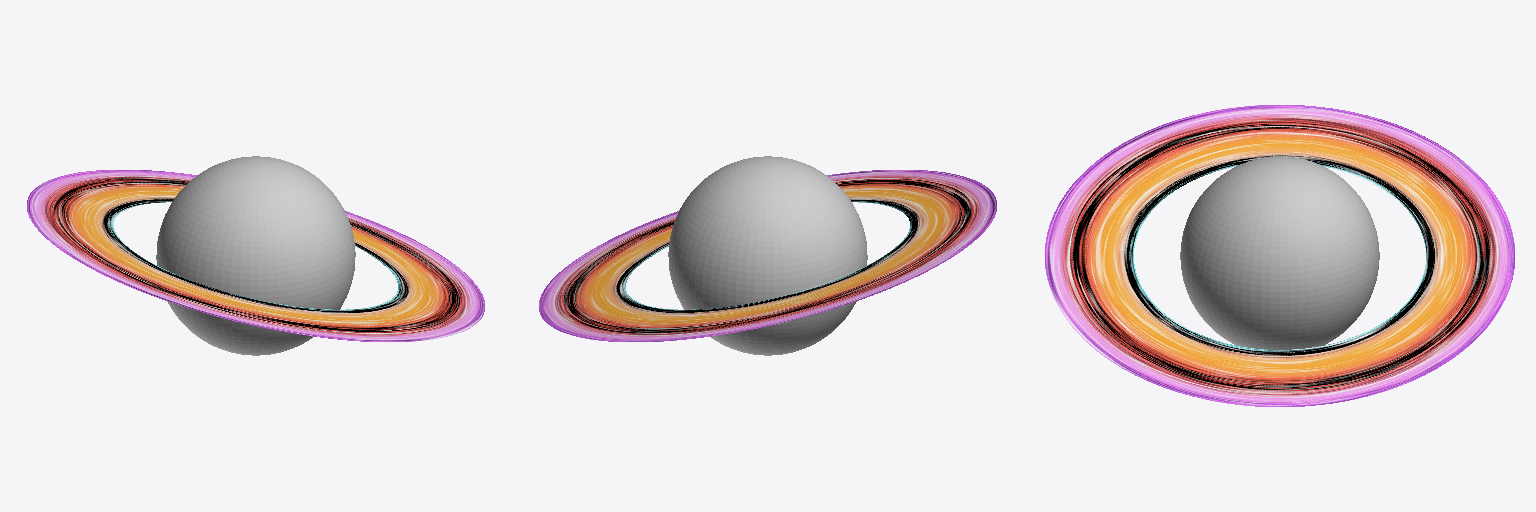
3 renders of one model, left to right at view 1: azimuth 30°, elevation 25°; view 2: azimuth 150°, elevation 25°; view 3: azimuth 270°, elevation 25°, orthographic.
Parts seen in each view (by area): view 1: Rings_Circle.001, Saturn_Sphere; view 2: Rings_Circle.001, Saturn_Sphere; view 3: Rings_Circle.001, Saturn_Sphere.
Boxes of the visible parts, x1,y1,x2,y2 form: Rings_Circle.001: [27, 170, 484, 341]; Saturn_Sphere: [156, 156, 355, 355]; Rings_Circle.001: [539, 170, 996, 341]; Saturn_Sphere: [668, 156, 867, 355]; Rings_Circle.001: [1045, 105, 1514, 406]; Saturn_Sphere: [1180, 156, 1379, 349].
Size of the model in its own units: 4.56 by 2 by 4.73.
2 materials, 1 textured.